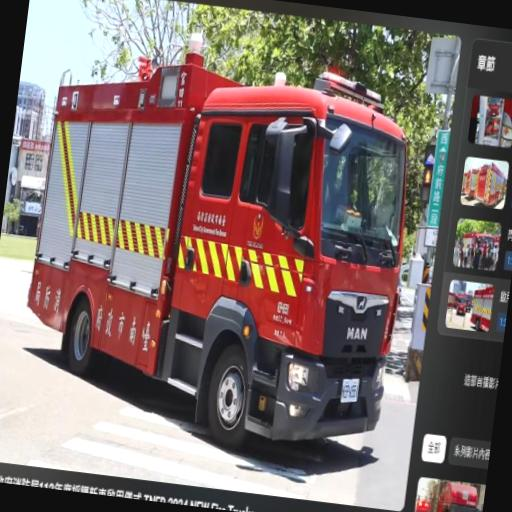fire truck: (27, 35, 406, 446)
